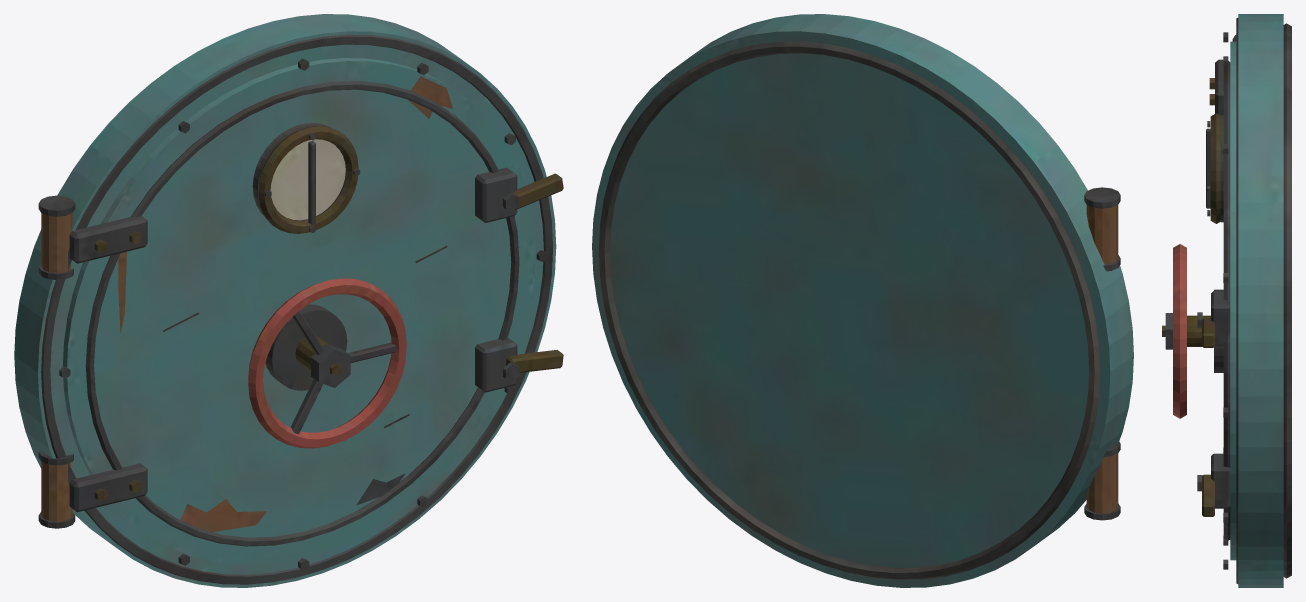
File: Y16_airlock_door.glb
The picture shows the model from 3 angles, left to right: view 1: azimuth 30°, elevation 25°; view 2: azimuth 150°, elevation 25°; view 3: azimuth 270°, elevation 25°; orthographic projection. The views are drawn at different scales.
Visible parts, largest first — view 1: Heavy circular hatch leaf; view 2: Heavy circular hatch leaf; view 3: Heavy circular hatch leaf.
Boxes of the visible parts, bbox=[...] form: Heavy circular hatch leaf: bbox=[14, 14, 563, 587]; Heavy circular hatch leaf: bbox=[592, 14, 1133, 587]; Heavy circular hatch leaf: bbox=[1162, 14, 1291, 587].
Bounding box in the file's own units: 2.4 × 2.4 × 0.543.
7 materials, 7 textured.
